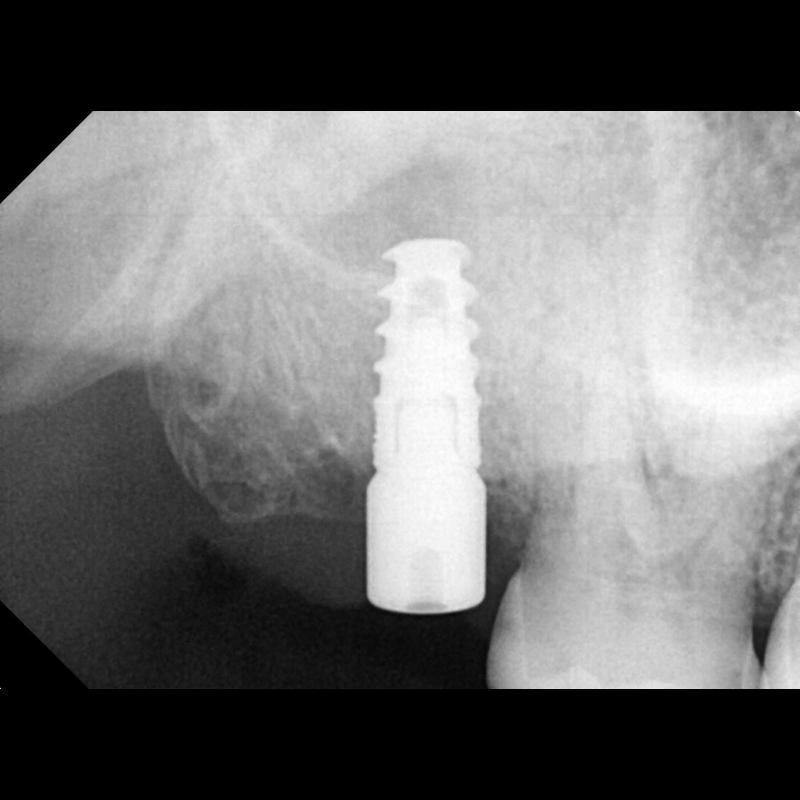NORIS: (361, 234, 491, 618)
